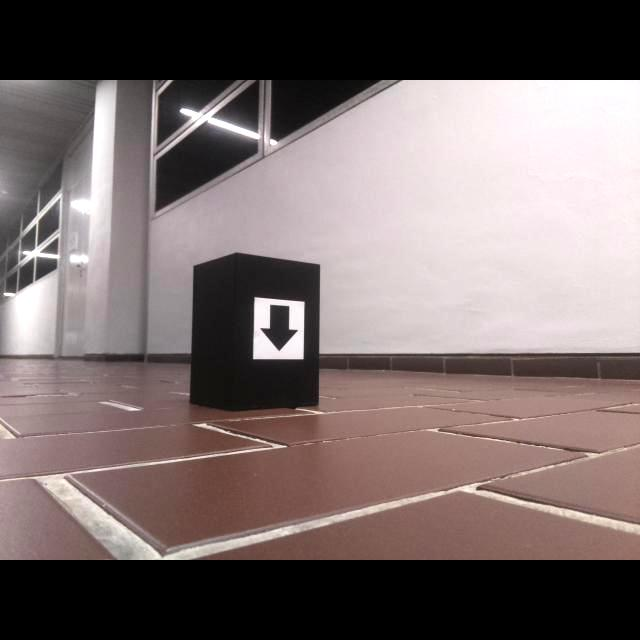DOWN: (258, 304, 299, 352)
